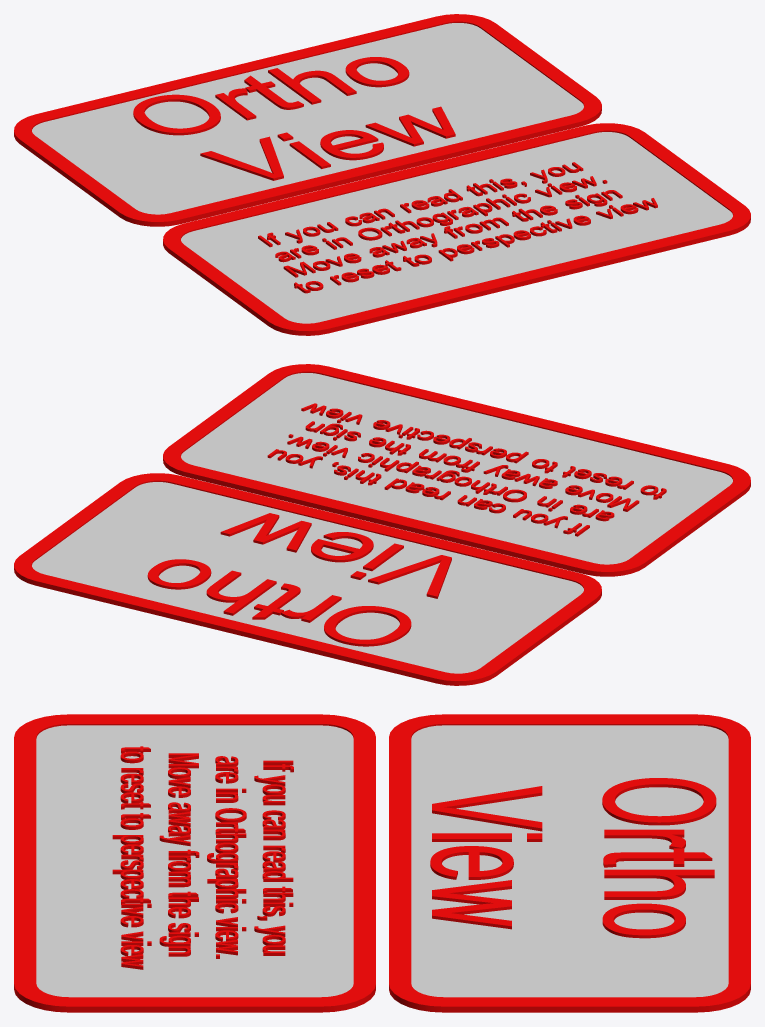
Rendered from OrhtoSign.fbx.
3 views of the same model, one above another, from view 1: azimuth 30°, elevation 25°; view 2: azimuth 150°, elevation 25°; view 3: azimuth 270°, elevation 25° (orthographic). The views are drawn at different scales.
Parts seen in each view (by area): view 1: Rectangle004, Rectangle008, SignEdge005, SignEdge003, Text006, Text004; view 2: Rectangle004, Rectangle008, SignEdge003, SignEdge005, Text006, Text004; view 3: Rectangle004, Rectangle008, SignEdge003, SignEdge005, Text006, Text004.
Boxes of the visible parts, x1=… form: Rectangle004: x1=32, y1=23, x2=583, y2=214; Rectangle008: x1=181, y1=132, x2=732, y2=323; SignEdge005: x1=163, y1=123, x2=750, y2=335; SignEdge003: x1=14, y1=14, x2=601, y2=226; Text006: x1=258, y1=162, x2=657, y2=293; Text004: x1=133, y1=57, x2=455, y2=180; Rectangle004: x1=32, y1=482, x2=583, y2=673; Rectangle008: x1=181, y1=373, x2=732, y2=564; SignEdge003: x1=14, y1=473, x2=601, y2=685; SignEdge005: x1=163, y1=364, x2=750, y2=576; Text006: x1=267, y1=403, x2=666, y2=536; Text004: x1=147, y1=513, x2=451, y2=646; Rectangle004: x1=411, y1=725, x2=728, y2=997; Rectangle008: x1=36, y1=725, x2=353, y2=997; SignEdge003: x1=389, y1=714, x2=750, y2=1012; SignEdge005: x1=14, y1=714, x2=375, y2=1012; Text006: x1=112, y1=746, x2=293, y2=969; Text004: x1=430, y1=778, x2=716, y2=938.
Bounding box in the file's own units: 105 × 1.3 × 112.
